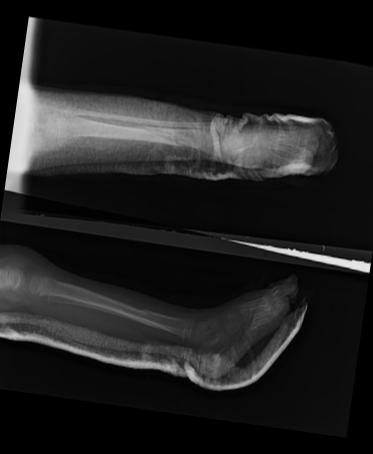fractured: (138, 124, 194, 148), (138, 308, 165, 329)
